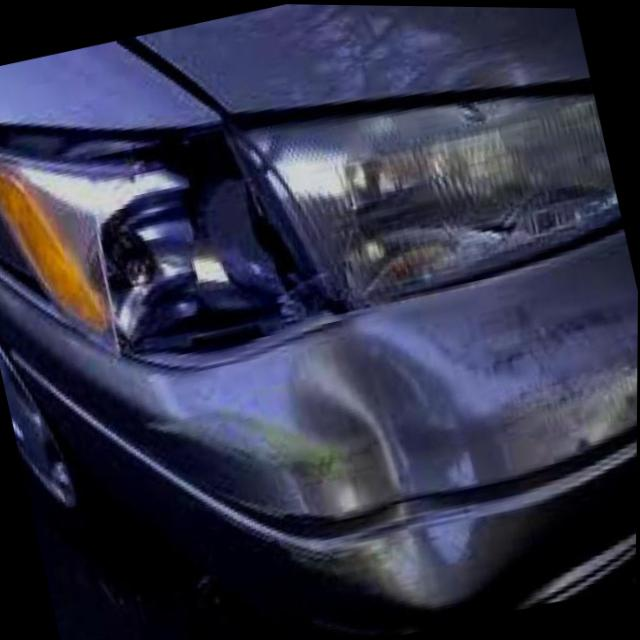Car-Damage: (14, 27, 539, 640)
